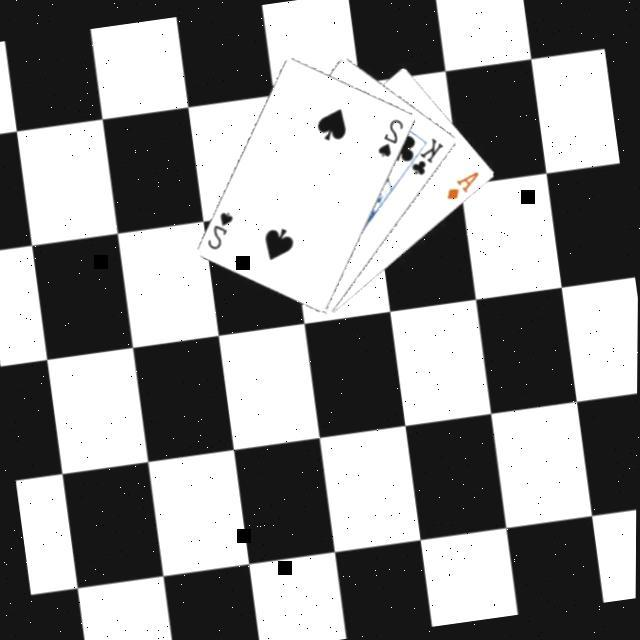2S: (372, 112, 414, 160), (202, 205, 242, 252)
AD: (442, 166, 488, 203)
KC: (398, 132, 452, 180)
